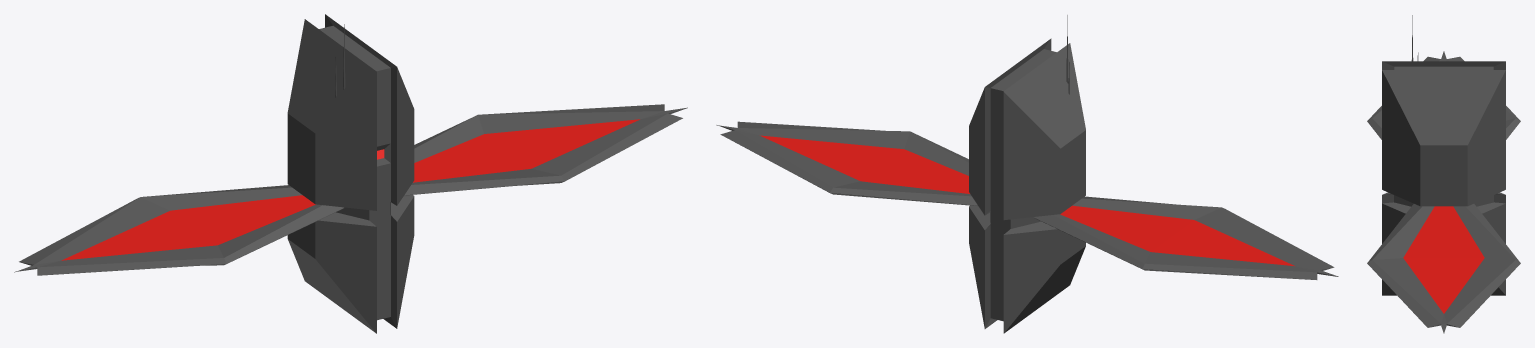
The model's file is robot centinal .fbx.
The picture shows the model from 3 angles, left to right: view 1: azimuth 30°, elevation 25°; view 2: azimuth 150°, elevation 25°; view 3: azimuth 270°, elevation 25°; orthographic projection. The views are drawn at different scales.
Parts seen in each view (by area): view 1: Cube; view 2: Cube; view 3: Cube.
Boxes of the visible parts, x1,y1,x2,y2 form: Cube: [14, 14, 687, 333]; Cube: [716, 38, 1338, 333]; Cube: [1367, 51, 1520, 333].
Bounding box in the file's own units: 1348 × 593 × 309.
